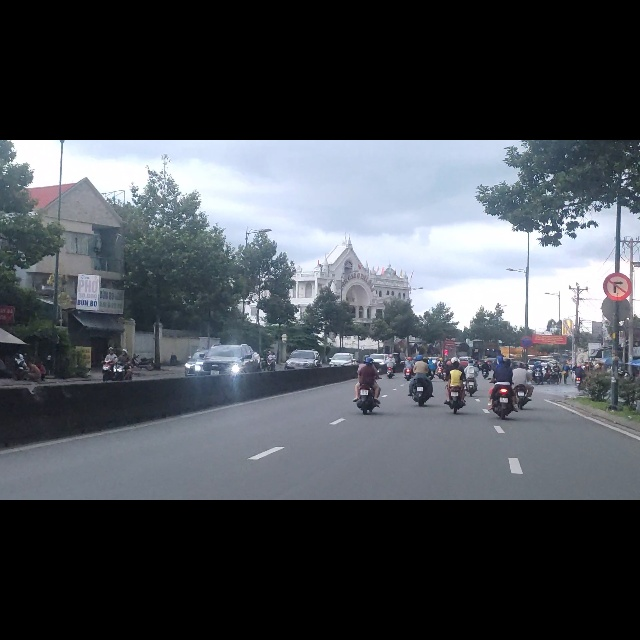bien_cam: (602, 235, 632, 284), (521, 348, 532, 369)
